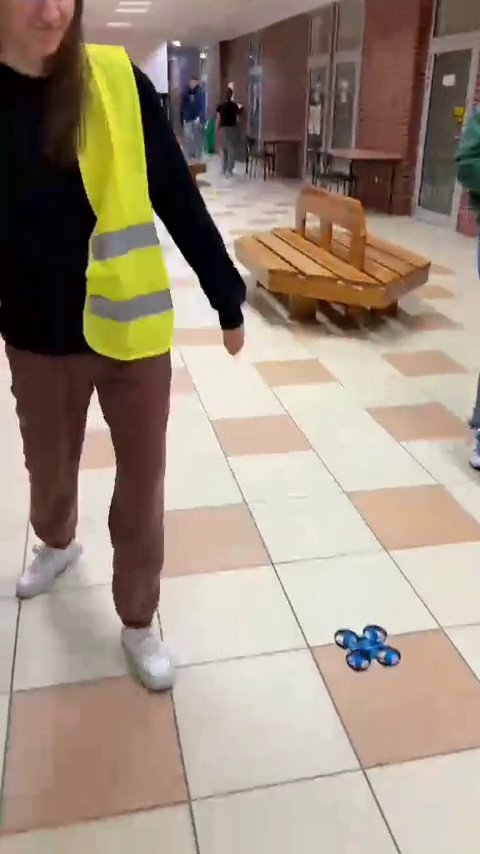drone: (334, 626, 397, 668)
no vest: (177, 67, 205, 170), (211, 88, 240, 172)
vest: (0, 3, 179, 667)
